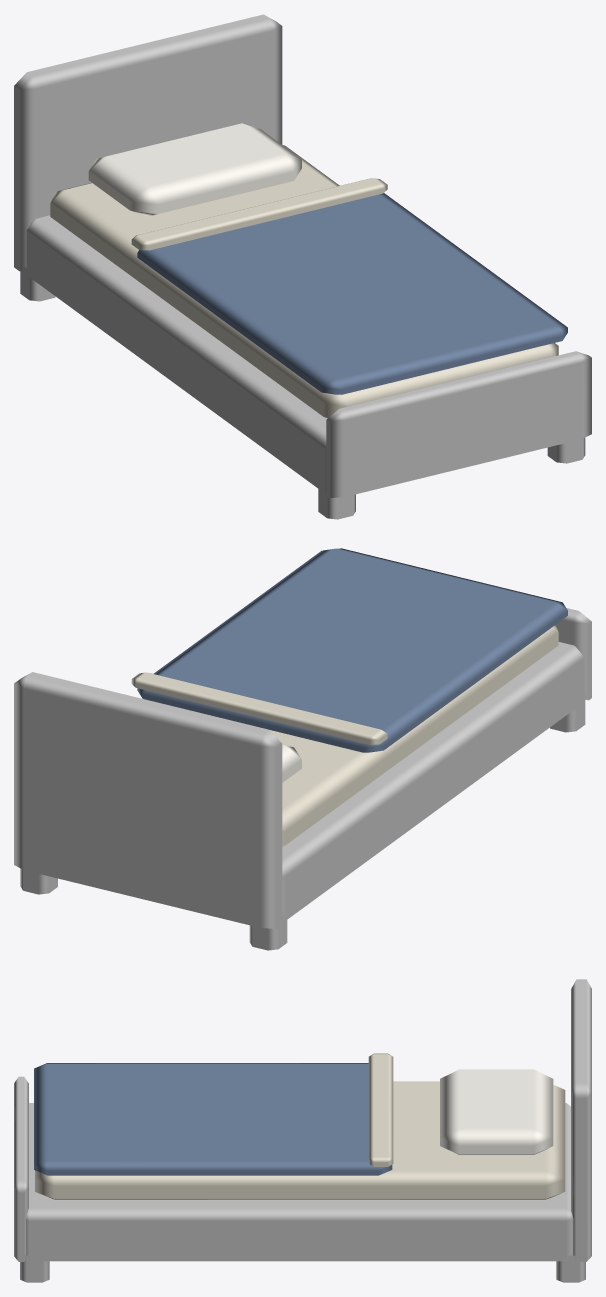
The model's file is bed.obj.
The picture shows the model from 3 angles, top to bottom: view 1: azimuth 30°, elevation 25°; view 2: azimuth 150°, elevation 25°; view 3: azimuth 270°, elevation 25°; orthographic projection. The views are drawn at different scales.
Parts seen in each view (by area): view 1: blanket, headboard, footboard, bed_frame, mattress, pillow, folded_linen_edge, leg_1, leg_3; view 2: headboard, blanket, bed_frame, mattress, folded_linen_edge, footboard, leg_2, leg_4, leg_1, pillow; view 3: blanket, bed_frame, mattress, pillow, headboard, folded_linen_edge, footboard, leg_4, leg_3.
Part boxes in pixels (x1,y1,x2,y2): blanket: (137, 193, 567, 394); headboard: (14, 14, 282, 271); footboard: (326, 351, 591, 498); bed_frame: (26, 215, 327, 493); mattress: (50, 144, 558, 418); pillow: (88, 123, 301, 216); folded_linen_edge: (131, 178, 387, 250); leg_1: (318, 489, 355, 519); leg_3: (547, 438, 585, 463); headboard: (14, 672, 282, 928); blanket: (137, 548, 567, 752); bed_frame: (282, 642, 584, 920); mattress: (270, 625, 558, 846); folded_linen_edge: (131, 672, 387, 744); footboard: (556, 608, 591, 700); leg_2: (249, 915, 287, 950); leg_4: (20, 868, 57, 894); leg_1: (550, 694, 585, 732); pillow: (282, 744, 301, 782); blanket: (34, 1063, 392, 1175); bed_frame: (26, 1103, 573, 1261); mattress: (35, 1081, 565, 1200); pillow: (440, 1069, 553, 1155); headboard: (571, 979, 591, 1261); folded_linen_edge: (368, 1053, 393, 1166); footboard: (14, 1076, 28, 1261); leg_4: (556, 1255, 585, 1282); leg_3: (20, 1255, 49, 1282).
Bounding box in the file's own units: 0.916 × 0.72 × 1.94.
